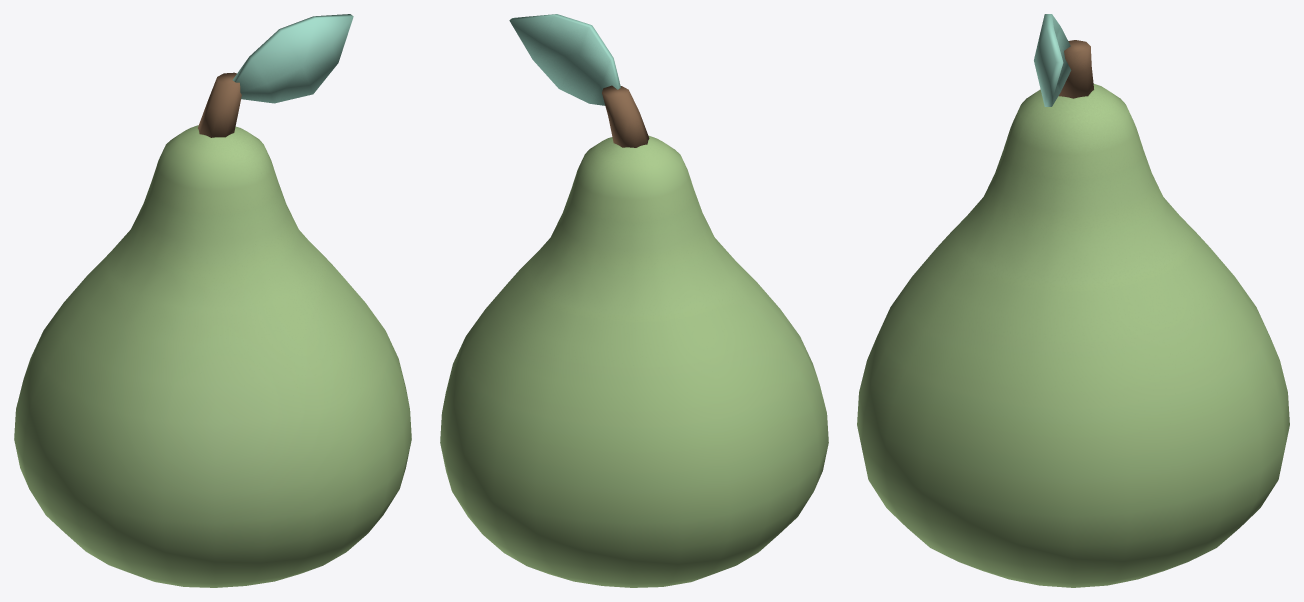
Rendered from SM_L1_Pear_A.fbx.
3 renders of one model, left to right at view 1: azimuth 30°, elevation 25°; view 2: azimuth 150°, elevation 25°; view 3: azimuth 270°, elevation 25°, orthographic. The views are drawn at different scales.
Parts seen in each view (by area): view 1: SM_L1_Pear_A; view 2: SM_L1_Pear_A; view 3: SM_L1_Pear_A.
Boxes of the visible parts, x1,y1,x2,y2 form: SM_L1_Pear_A: [14, 14, 411, 587]; SM_L1_Pear_A: [440, 14, 828, 587]; SM_L1_Pear_A: [857, 14, 1289, 587].
Size of the model in its own units: 0.48 by 0.7 by 0.48.
